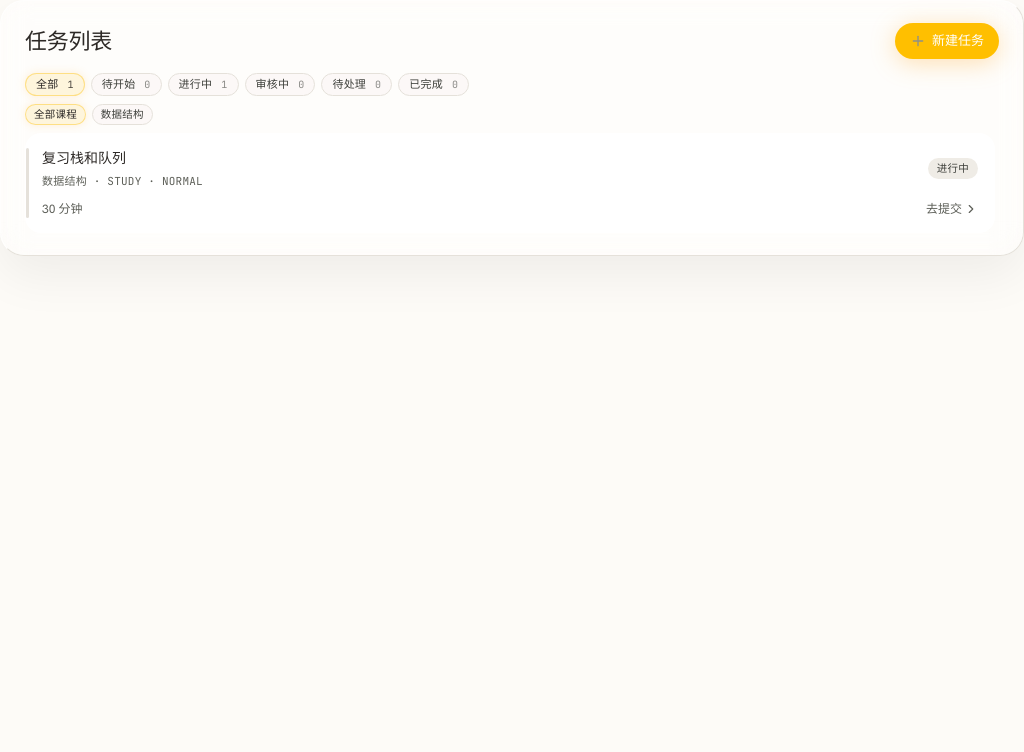
Scenario: TasksPage › surfaces delete errors inline instead of using window.alert
Click the text "复习栈和队列": (84, 158) [42,149,126,167]
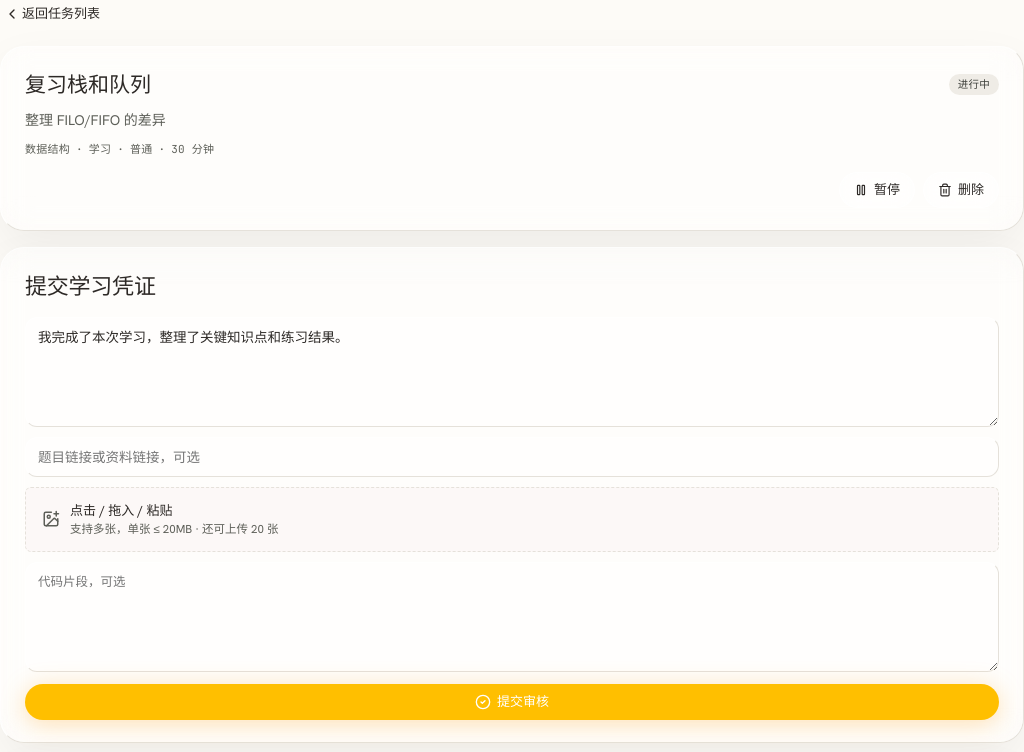
Click the button "删除": (961, 190) [923,172,999,208]
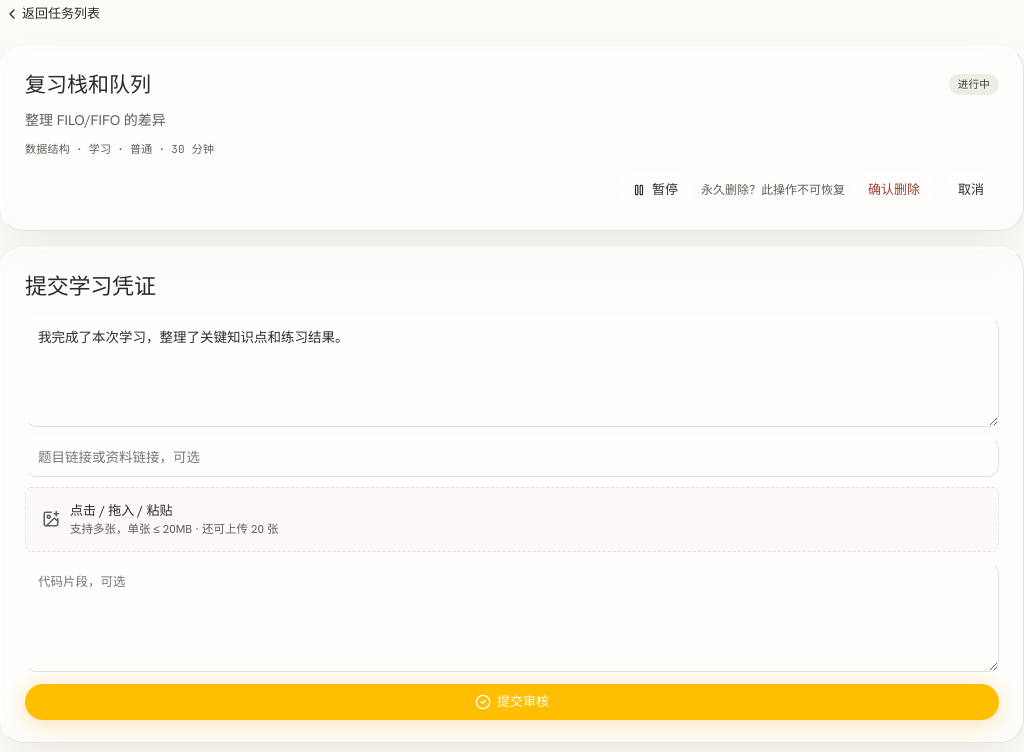
Click the button "确认删除": (894, 190) [853,172,935,208]
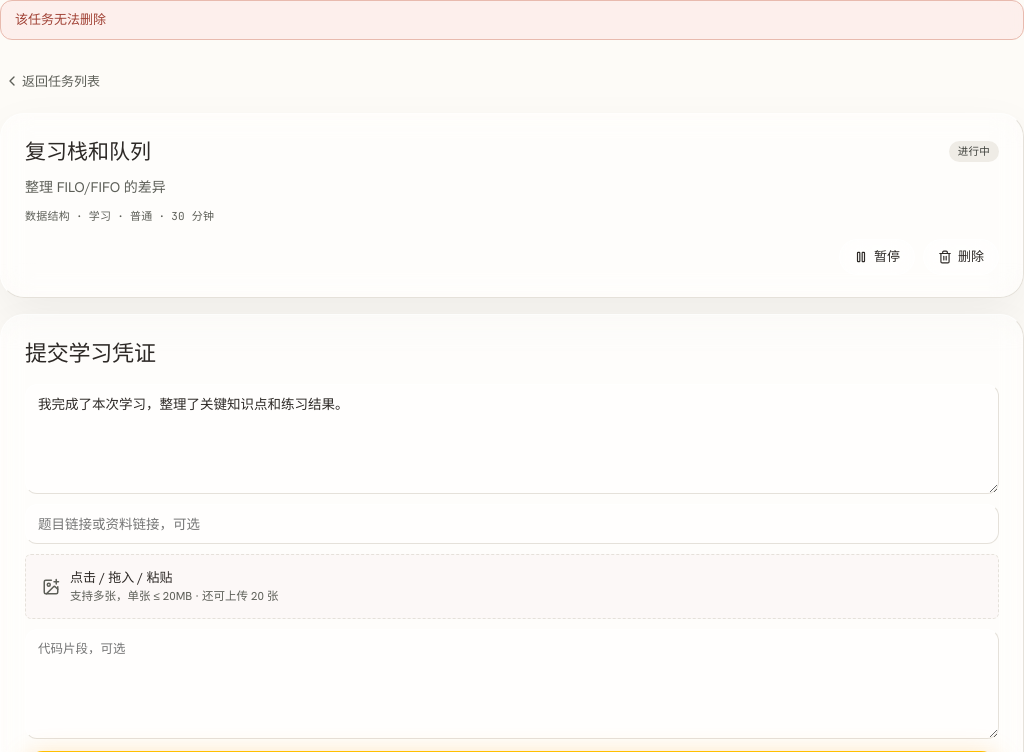
Result: the text "该任务无法删除" is shown at [0,0,1023,40]
